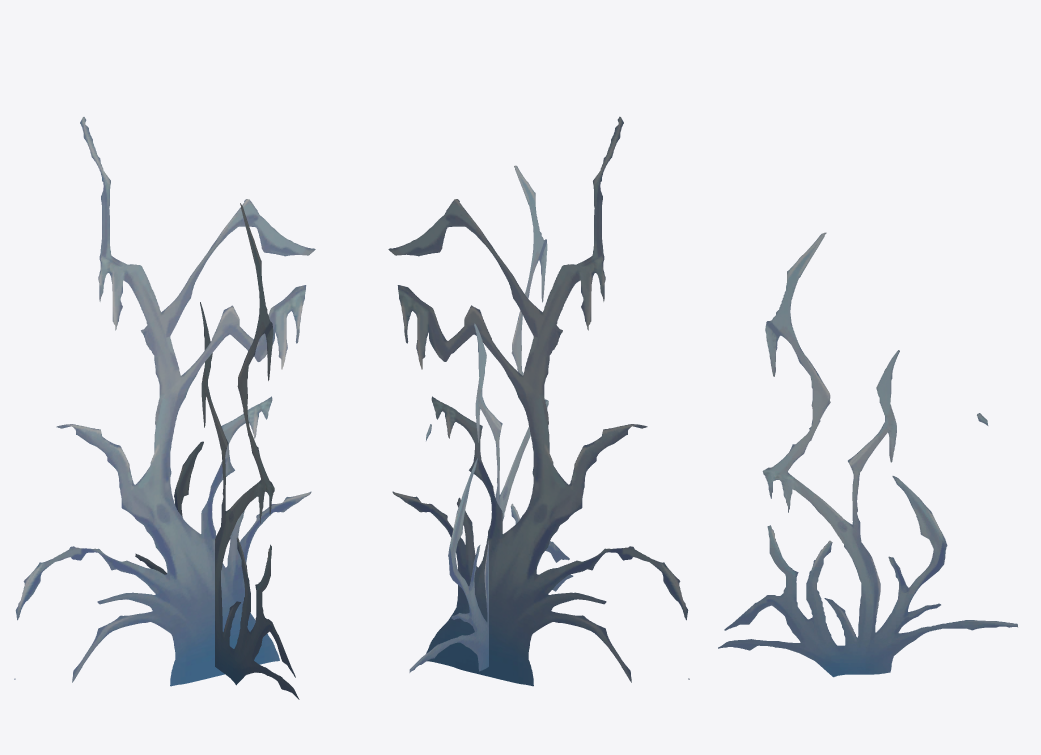
Rendered from gumu_03.FBX.
The picture shows the model from 3 angles, left to right: view 1: azimuth 30°, elevation 25°; view 2: azimuth 150°, elevation 25°; view 3: azimuth 270°, elevation 25°; orthographic projection. The views are drawn at different scales.
Parts seen in each view (by area): view 1: Plane003; view 2: Plane003; view 3: Plane003.
Boxes of the visible parts, left/top/right/bottom form: Plane003: left=14, top=117, right=315, bottom=699; Plane003: left=388, top=116, right=689, bottom=686; Plane003: left=718, top=232, right=1017, bottom=677.
Size of the model in its own units: 94.06 by 177 by 84.94.
